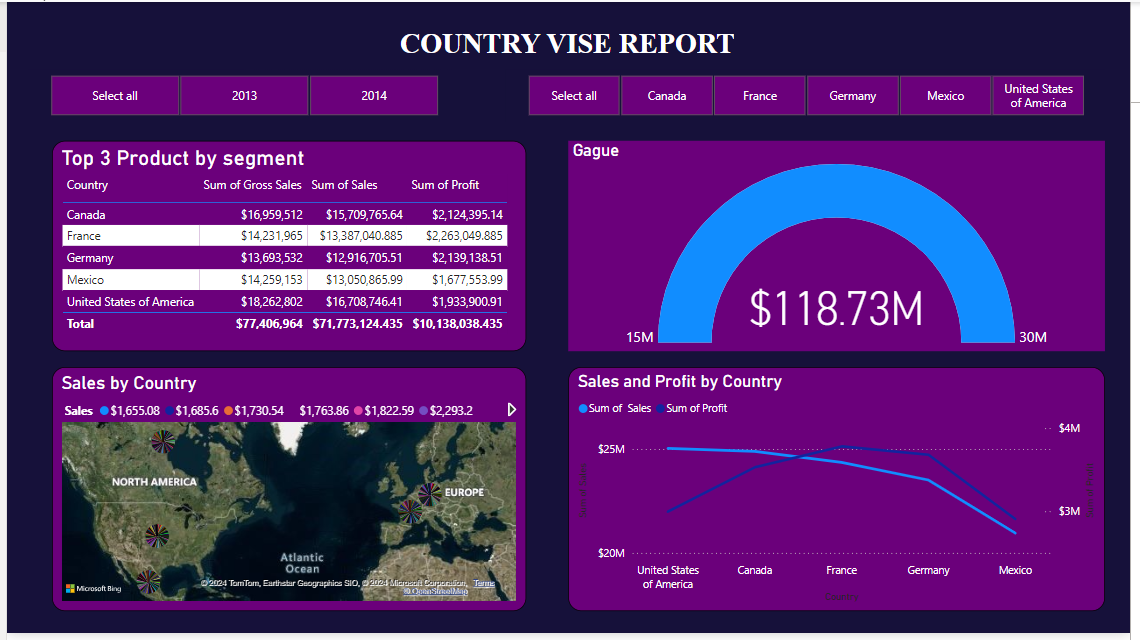

The dashboard page shown, as its layout file describes it:
{"tool":"powerbi","page":{"name":"Country Vise Report","canvas":[1280,720],"ordinal":2},"visuals":[{"type":"textbox","box":[429.5,24.7,419.9,52.1],"z":0},{"type":"tableEx","title":"Top 3 Product by country","fields":{"Values":["financials.Country","Sum(financials.Gross Sales)","Sum(financials. Sales)","Sum(financials.Profit)"]},"box":[50.8,157.8,540.7,240.1],"z":1000},{"type":"slicer","fields":{"Values":["financials.Year"]},"box":[24.7,76.8,491.3,59],"z":2000},{"type":"slicer","fields":{"Values":["financials.Country"]},"box":[568.1,76.8,683.4,59],"z":3000},{"type":"map","title":"Sales by Country","fields":{"Category":["financials.Country"],"Series":["financials. Sales"]},"box":[50.8,415.8,540.7,278.6],"z":4000},{"type":"lineChart","title":"  Sales and Profit by Country","fields":{"Category":["financials.Country"],"Y":["Sum(financials. Sales)"],"Y2":["Sum(financials.Profit)"]},"box":[639.5,415.8,612,278.6],"z":5000},{"type":"gauge","title":"Gague","fields":{"Y":["Sum(financials. Sales)"],"MinValue":["financials.minimum sales"],"MaxValue":["financials.Target sale value"]},"box":[639.5,157.8,612,240.1],"z":6000}]}

Visuals, with their boxes in screenshot pixels (x1, y1, x2, y2), scaled from the page's 1280x720 canvas onto the 1140x640 screenshot:
textbox: [left=383, top=22, right=756, bottom=68]
"Top 3 Product by country" tableEx: [left=45, top=140, right=527, bottom=354]
slicer - financials.Year: [left=22, top=68, right=460, bottom=121]
slicer - financials.Country: [left=506, top=68, right=1115, bottom=121]
"Sales by Country" map: [left=45, top=370, right=527, bottom=617]
"  Sales and Profit by Country" lineChart: [left=570, top=370, right=1115, bottom=617]
"Gague" gauge: [left=570, top=140, right=1115, bottom=354]
